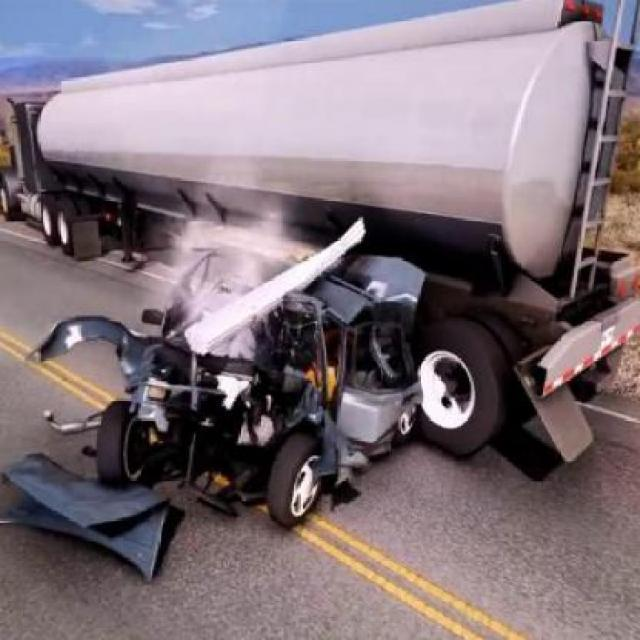accident: (0, 32, 613, 476)
